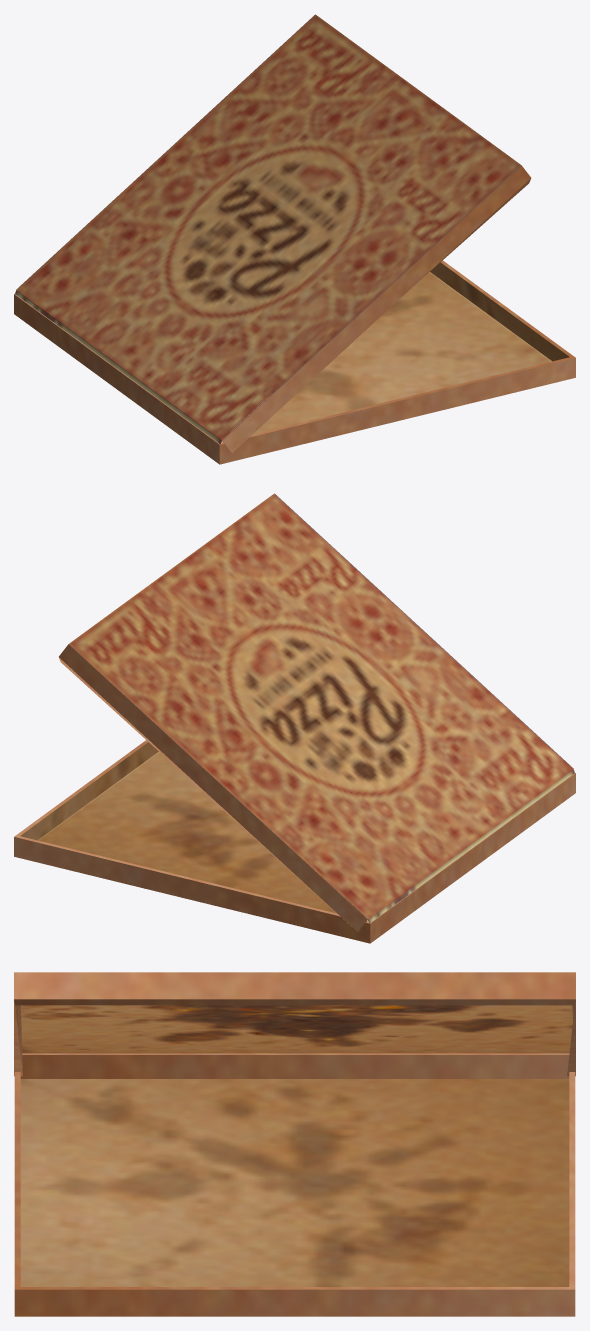
File: pizza_box_semi_close_empty.obj
The picture shows the model from 3 angles, top to bottom: view 1: azimuth 30°, elevation 25°; view 2: azimuth 150°, elevation 25°; view 3: azimuth 270°, elevation 25°; orthographic projection. The views are drawn at different scales.
Visible parts, largest first — view 1: pizza_box_semi_close_empty; view 2: pizza_box_semi_close_empty; view 3: pizza_box_semi_close_empty.
Part boxes in pixels (box(x1,y1,x2,y2)): pizza_box_semi_close_empty: box(14, 14, 575, 464); pizza_box_semi_close_empty: box(14, 493, 575, 943); pizza_box_semi_close_empty: box(14, 972, 575, 1316).
Bounding box in the file's own units: 0.5276 × 0.3198 × 0.5286.
